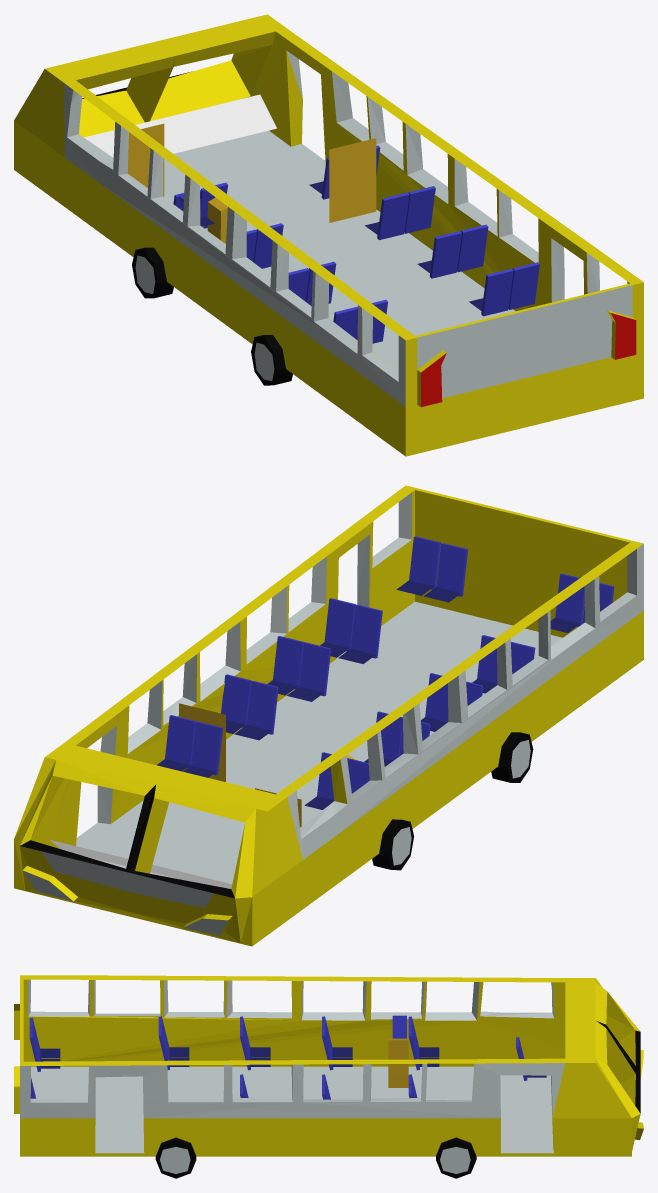
File: FASE 5  SACRABALA.dae
3 renders of one model, top to bottom at view 1: azimuth 30°, elevation 25°; view 2: azimuth 150°, elevation 25°; view 3: azimuth 270°, elevation 25°, orthographic. The views are drawn at different scales.
Visible parts, largest first — view 1: Cube, Cube.001, Plane, Plane.001; view 2: Cube, Cube.001, Plane.001, Plane; view 3: Cube, Cube.001, Plane.
Part boxes in pixels (x1=…): Cube: x1=14, y1=14, x2=643, y2=456; Cube.001: x1=173, y1=145, x2=539, y2=343; Plane: x1=127, y1=123, x2=376, y2=243; Plane.001: x1=84, y1=94, x2=276, y2=157; Cube: x1=14, y1=485, x2=643, y2=946; Cube.001: x1=157, y1=536, x2=614, y2=809; Plane.001: x1=49, y1=839, x2=232, y2=888; Plane: x1=179, y1=703, x2=356, y2=827; Cube: x1=14, y1=975, x2=643, y2=1178; Cube.001: x1=29, y1=1015, x2=546, y2=1099; Plane: x1=388, y1=1038, x2=408, y2=1087.
Size of the model in its own units: 29.04 by 79.13 by 15.16.
